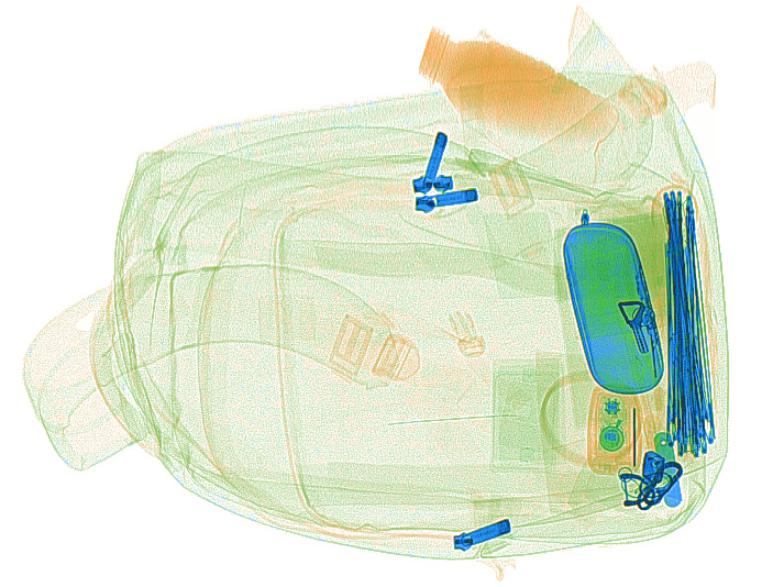knife: (653, 431, 683, 509)
